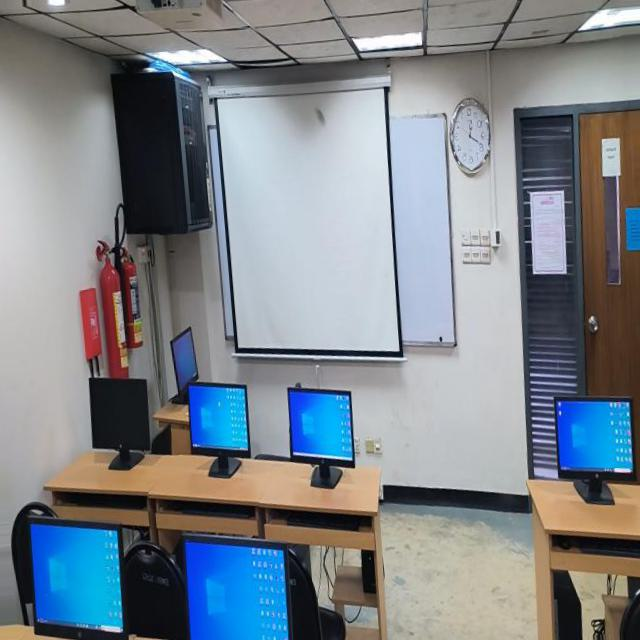Chair: (317, 532, 368, 640), (474, 513, 528, 607), (0, 589, 53, 640), (622, 462, 640, 583)
Cpu: (86, 580, 115, 640)
Fire Extinguisher: (509, 244, 534, 355), (491, 194, 510, 336)
Light: (388, 52, 461, 74), (196, 55, 265, 72), (0, 50, 48, 70)
Monitor: (374, 506, 473, 640), (533, 485, 620, 632), (24, 408, 102, 518), (296, 379, 358, 481), (397, 366, 455, 462), (493, 358, 551, 446), (444, 314, 467, 378)
Projector: (390, 0, 474, 42)
